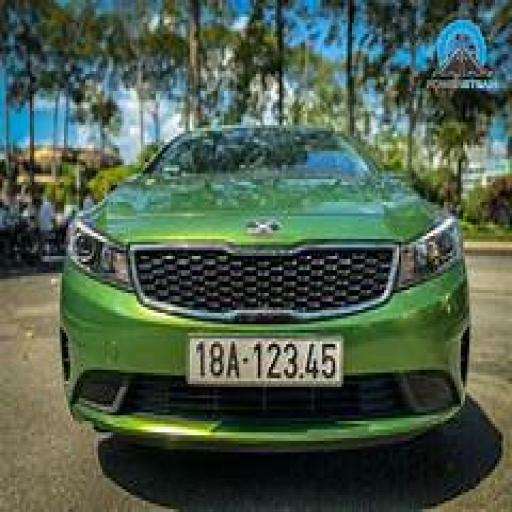place: (188, 331, 343, 387)
